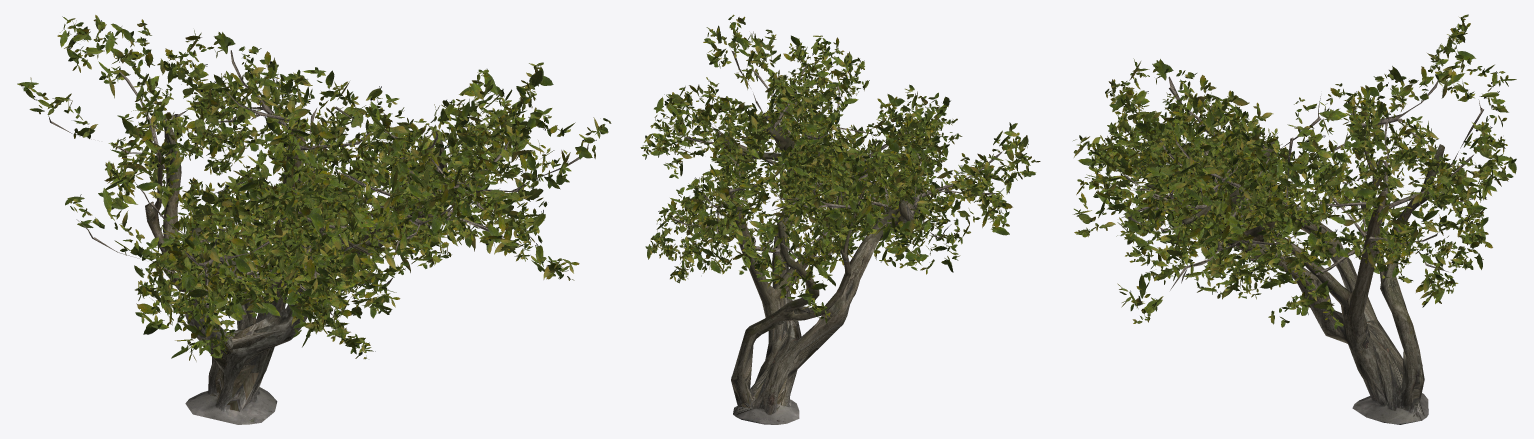
3 renders of one model, left to right at view 1: azimuth 30°, elevation 25°; view 2: azimuth 150°, elevation 25°; view 3: azimuth 270°, elevation 25°, orthographic. The views are drawn at different scales.
Parts seen in each view (by area): view 1: high, low; view 2: high, low; view 3: high, low.
Boxes of the visible parts, box(x1,y1,x2,y2) form: high: box(19, 15, 611, 424); low: box(17, 16, 608, 424); high: box(640, 14, 1040, 424); low: box(643, 17, 1035, 423); high: box(1073, 14, 1516, 424); low: box(1073, 27, 1516, 422).
Bounding box in the file's own units: 3.87 × 3.41 × 4.09.
Materials: 3 (3 with a texture image).
